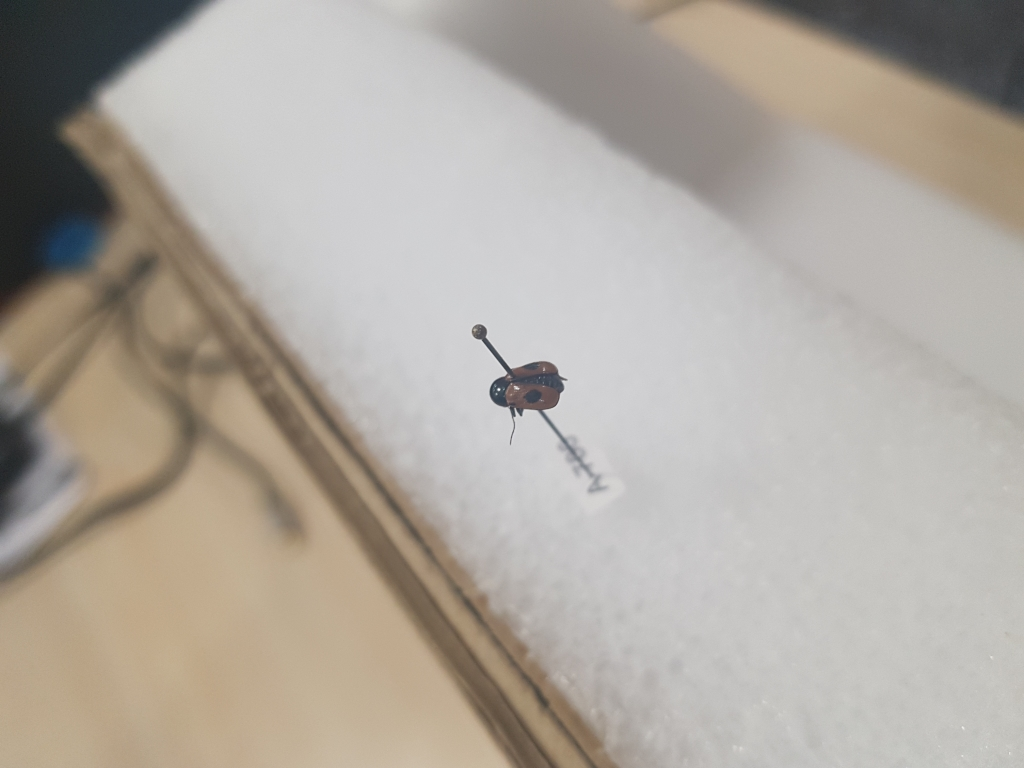Cryptocephalus_bipunctatus: (483, 355, 571, 444)
